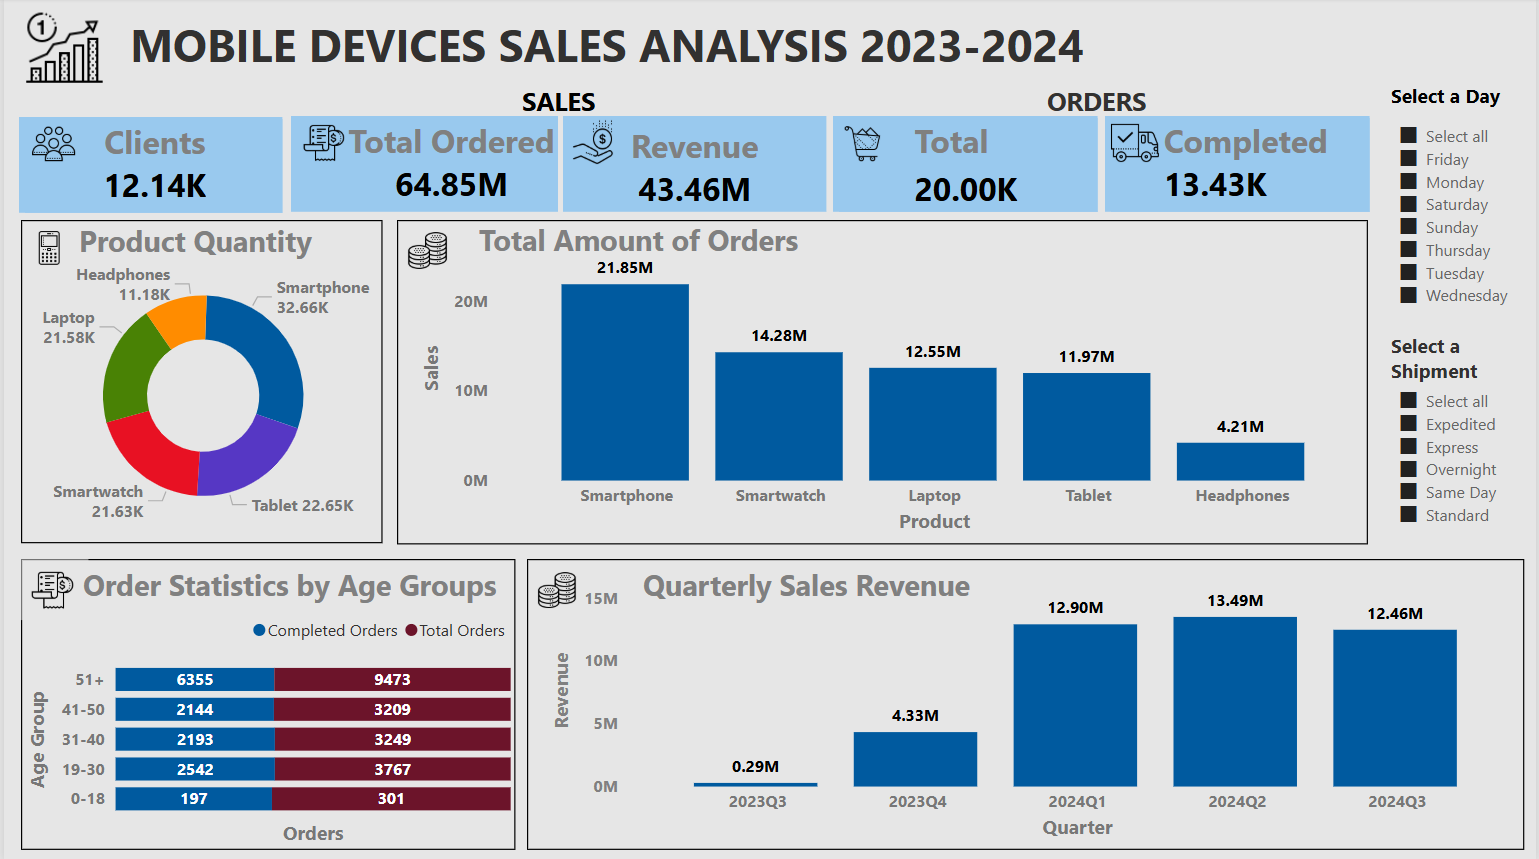

What the dashboard file says about the page in this screenshot:
{"tool":"powerbi","page":{"name":"Page 1","canvas":[1280,720],"ordinal":0},"visuals":[{"type":"donutChart","fields":{"Category":["uc?id=1-2-ZjyERTwF86hiPMLNfvHDdNnOSGiQx&export=download.Product Type"],"Y":["Sum(uc?id=1-2-ZjyERTwF86hiPMLNfvHDdNnOSGiQx&export=download.Quantity)"]},"box":[14.2,185.3,302.4,270.4],"z":0},{"type":"columnChart","fields":{"Category":["Electronic product sales.Product Type"],"Y":["Sum(Electronic product sales.Total Sales)"]},"box":[328.3,185.4,811,270.6],"z":1000},{"type":"textbox","box":[100.2,8.4,819.4,66.8],"z":2000},{"type":"image","box":[0,0,100.2,82.7],"z":3000},{"type":"image","box":[437.1,468.2,49.7,51.4],"z":4000},{"type":"textbox","box":[528.5,468.2,302.4,44.3],"z":5000},{"type":"slicer","fields":{"Values":["Electronic product sales.Shipping Type"]},"box":[1153.6,321,110,125.9],"z":6000},{"type":"slicer","fields":{"Values":["Electronic product sales.Day of Week Name"]},"box":[1153.6,99.3,116.2,162.3],"z":7000},{"type":"textbox","box":[1153.6,65.6,110,33.7],"z":8000},{"type":"textbox","box":[1153.6,274.9,91.3,54.1],"z":9000},{"type":"image","box":[328.1,185.3,50.5,51.4],"z":10000},{"type":"textbox","box":[391.9,180,288.2,51.4],"z":11000},{"type":"cardVisual","fields":{"Data":["Electronic product sales.Completed orders"]},"box":[919.5,98.4,221,80],"z":12000},{"type":"cardVisual","fields":{"Data":["Electronic product sales.Total Orders"]},"box":[692.5,98.4,221,80],"z":13000},{"type":"cardVisual","fields":{"Data":["Electronic product sales.Total Income from Completed"]},"box":[467.3,98.4,219.9,80],"z":14000},{"type":"textbox","box":[866.3,65.6,106.4,39],"z":15000},{"type":"textbox","box":[427.4,65.6,79.8,39],"z":16000},{"type":"cardVisual","fields":{"Data":["Sum(Electronic product sales.Total Sales)"]},"box":[239.4,98.4,223,79.8],"z":17000},{"type":"cardVisual","fields":{"Data":["Electronic product sales.Clients"]},"box":[12.4,99.3,220,80],"z":18000},{"type":"image","box":[692.5,98.4,49.7,46.1],"z":19000},{"type":"image","box":[467.3,98.4,49.7,49.7],"z":20000},{"type":"lineClusteredColumnComboChart","fields":{"Category":["Electronic product sales.Quarter"],"Y":["Electronic product sales.Total Income from Completed"]},"box":[436.8,468.6,832.8,243.1],"z":21000},{"type":"hundredPercentStackedBarChart","fields":{"Category":["Electronic product sales.Age Group"],"Y":["Electronic product sales.Completed orders","Electronic product sales.Total Orders"]},"box":[14.2,468.2,413.2,243],"z":22000},{"type":"image","box":[12.4,468.2,57.6,51.4],"z":23000},{"type":"textbox","box":[61.2,468.2,386.6,51.4],"z":24000},{"type":"image","box":[14.2,186.2,47,45.2],"z":25000},{"type":"textbox","box":[57.6,180.9,215.5,45.2],"z":26000}]}

Visuals, with their boxes in screenshot pixels (x1, y1, x2, y2), scaled from the page's 1280x720 canvas onto the 1539x859 screenshot:
donutChart - uc?id=1-2-ZjyERTwF86hiPMLNfvHDdNnOSGiQx&export=download.Product Type x Sum(uc?id=1-2-ZjyERTwF86hiPMLNfvHDdNnOSGiQx&export=download.Quantity): <box>17,221,381,544</box>
columnChart - Electronic product sales.Product Type x Sum(Electronic product sales.Total Sales): <box>395,221,1370,544</box>
textbox: <box>120,10,1106,90</box>
image: <box>0,0,120,99</box>
image: <box>526,559,585,620</box>
textbox: <box>635,559,999,611</box>
slicer - Electronic product sales.Shipping Type: <box>1387,383,1519,533</box>
slicer - Electronic product sales.Day of Week Name: <box>1387,118,1527,312</box>
textbox: <box>1387,78,1519,118</box>
textbox: <box>1387,328,1497,393</box>
image: <box>394,221,455,282</box>
textbox: <box>471,215,818,276</box>
cardVisual - Electronic product sales.Completed orders: <box>1106,117,1371,213</box>
cardVisual - Electronic product sales.Total Orders: <box>833,117,1098,213</box>
cardVisual - Electronic product sales.Total Income from Completed: <box>562,117,826,213</box>
textbox: <box>1042,78,1170,125</box>
textbox: <box>514,78,610,125</box>
cardVisual - Sum(Electronic product sales.Total Sales): <box>288,117,556,213</box>
cardVisual - Electronic product sales.Clients: <box>15,118,279,214</box>
image: <box>833,117,892,172</box>
image: <box>562,117,622,177</box>
lineClusteredColumnComboChart - Electronic product sales.Quarter x Electronic product sales.Total Income from Completed: <box>525,559,1526,849</box>
hundredPercentStackedBarChart - Electronic product sales.Age Group x Electronic product sales.Completed orders: <box>17,559,514,849</box>
image: <box>15,559,84,620</box>
textbox: <box>74,559,538,620</box>
image: <box>17,222,74,276</box>
textbox: <box>69,216,328,270</box>
